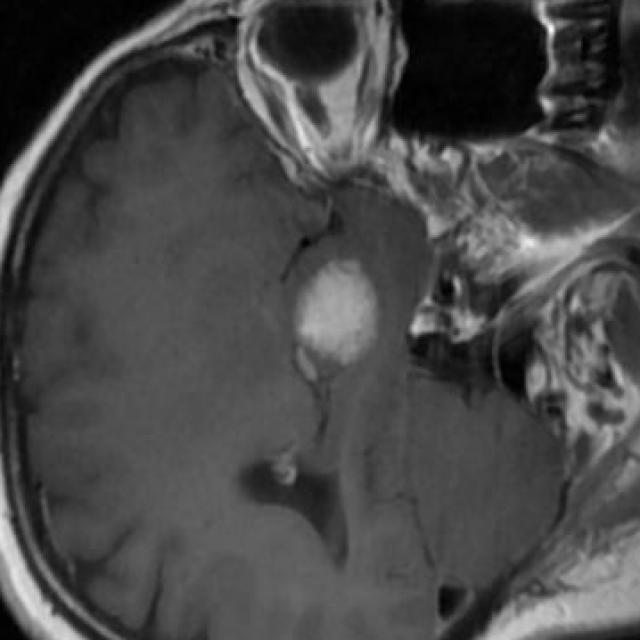meningioma: (296, 264, 376, 365)
